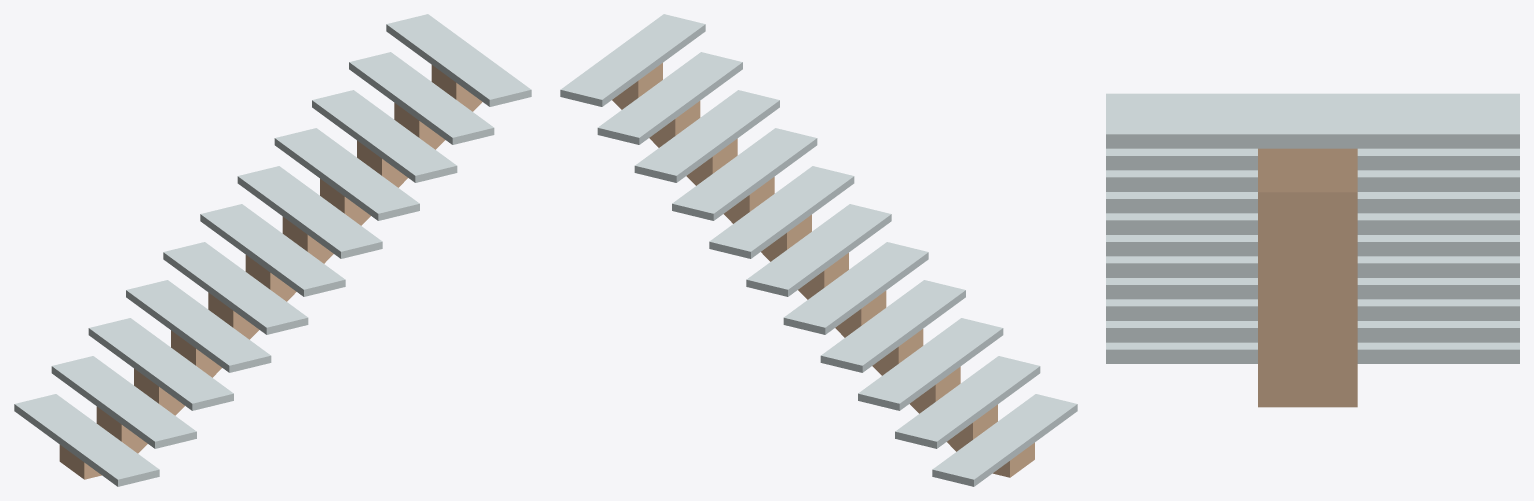
The model's file is k_stairsOpenSingle.glb.
3 renders of one model, left to right at view 1: azimuth 30°, elevation 25°; view 2: azimuth 150°, elevation 25°; view 3: azimuth 270°, elevation 25°, orthographic. The views are drawn at different scales.
Visible parts, largest first — view 1: stairsOpenSingle(Clone), Group; view 2: stairsOpenSingle(Clone), Group; view 3: stairsOpenSingle(Clone), Group.
Part boxes in pixels (bbox=[...]): stairsOpenSingle(Clone): bbox=[14, 14, 531, 486]; Group: bbox=[59, 65, 482, 479]; stairsOpenSingle(Clone): bbox=[560, 14, 1077, 486]; Group: bbox=[612, 63, 1034, 477]; stairsOpenSingle(Clone): bbox=[1106, 93, 1519, 363]; Group: bbox=[1258, 148, 1357, 407].
Bounding box in the file's own units: 3.32 × 2.44 × 1.44.
